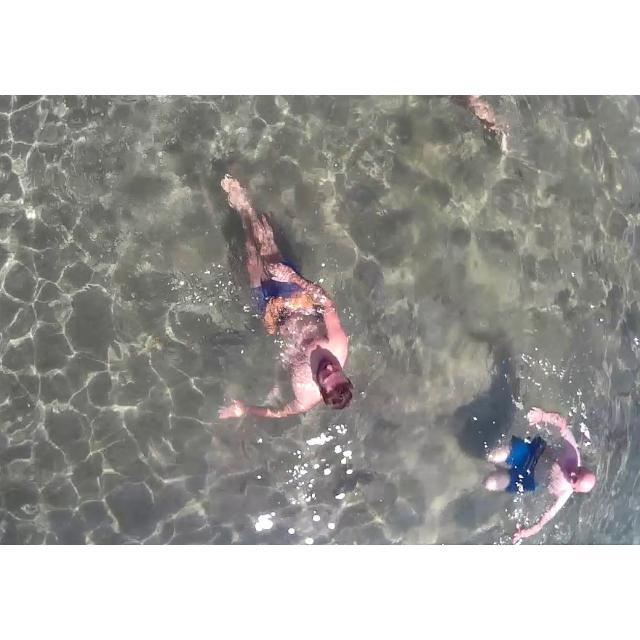human: (202, 152, 355, 447)
